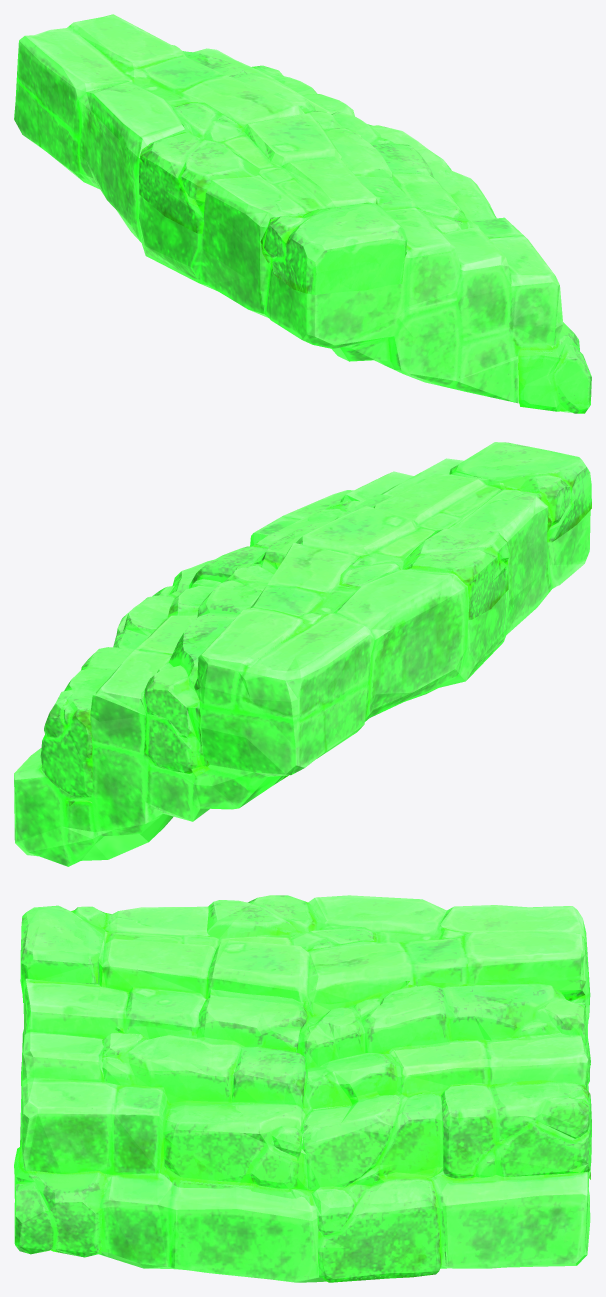
Rendered from StairUp.fbx.
3 renders of one model, top to bottom at view 1: azimuth 30°, elevation 25°; view 2: azimuth 150°, elevation 25°; view 3: azimuth 270°, elevation 25°, orthographic. The views are drawn at different scales.
Visible parts, largest first — view 1: Dn_HL_Stairs_Fine_4m_A_Dmg01.mo; view 2: Dn_HL_Stairs_Fine_4m_A_Dmg01.mo; view 3: Dn_HL_Stairs_Fine_4m_A_Dmg01.mo.
Part boxes in pixels (box(x1,y1,x2,y2)): Dn_HL_Stairs_Fine_4m_A_Dmg01.mo: box(14, 14, 591, 413); Dn_HL_Stairs_Fine_4m_A_Dmg01.mo: box(14, 442, 591, 866); Dn_HL_Stairs_Fine_4m_A_Dmg01.mo: box(14, 895, 591, 1282).
Bounding box in the file's own units: 689 × 464 × 1023.
